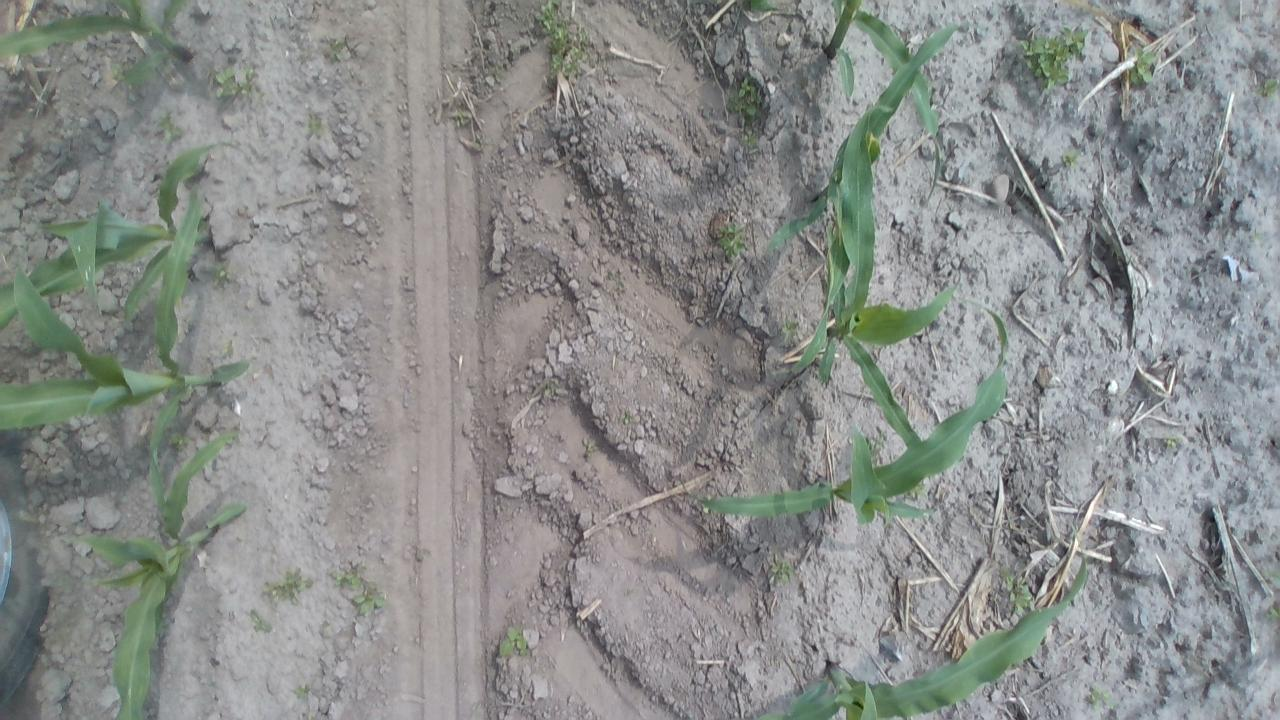Maize: (0, 186, 246, 526), (686, 292, 1016, 531), (762, 16, 969, 386), (767, 93, 955, 490), (18, 417, 252, 720), (746, 519, 1090, 720), (0, 133, 243, 353), (814, 0, 948, 212), (0, 0, 206, 93)
Weeds: (532, 0, 597, 81), (1014, 23, 1090, 91), (728, 76, 768, 154), (263, 566, 312, 607), (998, 568, 1036, 618), (209, 64, 255, 101), (715, 221, 753, 263), (494, 622, 530, 658), (326, 567, 371, 595), (1130, 45, 1158, 89), (350, 589, 390, 618), (318, 31, 349, 64), (1086, 684, 1116, 716), (777, 311, 805, 345), (1056, 144, 1086, 174), (766, 558, 794, 590), (158, 110, 184, 144), (247, 608, 277, 634), (303, 112, 332, 138), (905, 478, 932, 500), (1258, 75, 1280, 102), (466, 132, 493, 153), (168, 430, 195, 450), (541, 376, 563, 399), (607, 268, 626, 292), (212, 264, 236, 282), (1261, 568, 1280, 590), (1160, 435, 1184, 452), (454, 108, 473, 127), (1265, 600, 1280, 624), (291, 686, 312, 702), (111, 64, 132, 80), (616, 410, 634, 428), (220, 340, 237, 358), (509, 44, 524, 63), (1254, 228, 1270, 245), (490, 62, 503, 79)
